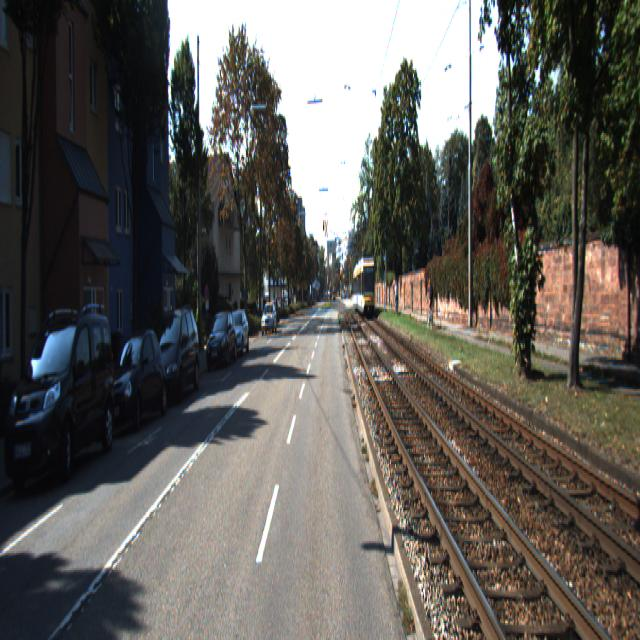Car: (2, 303, 118, 497), (102, 326, 169, 437), (146, 305, 200, 408), (205, 311, 236, 373), (353, 255, 376, 318), (224, 310, 250, 362)
